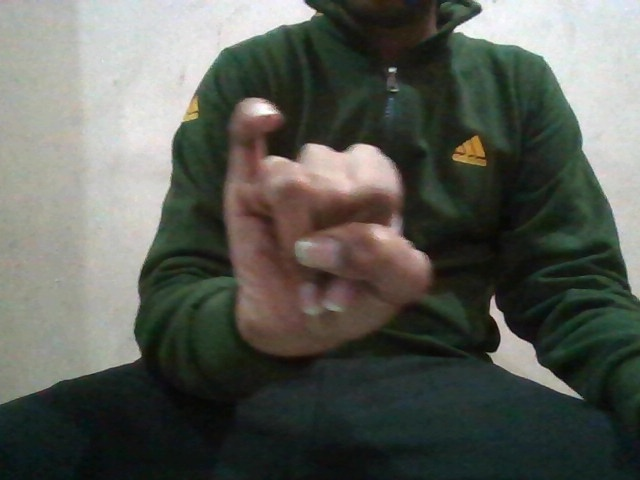J: (216, 100, 428, 347)
